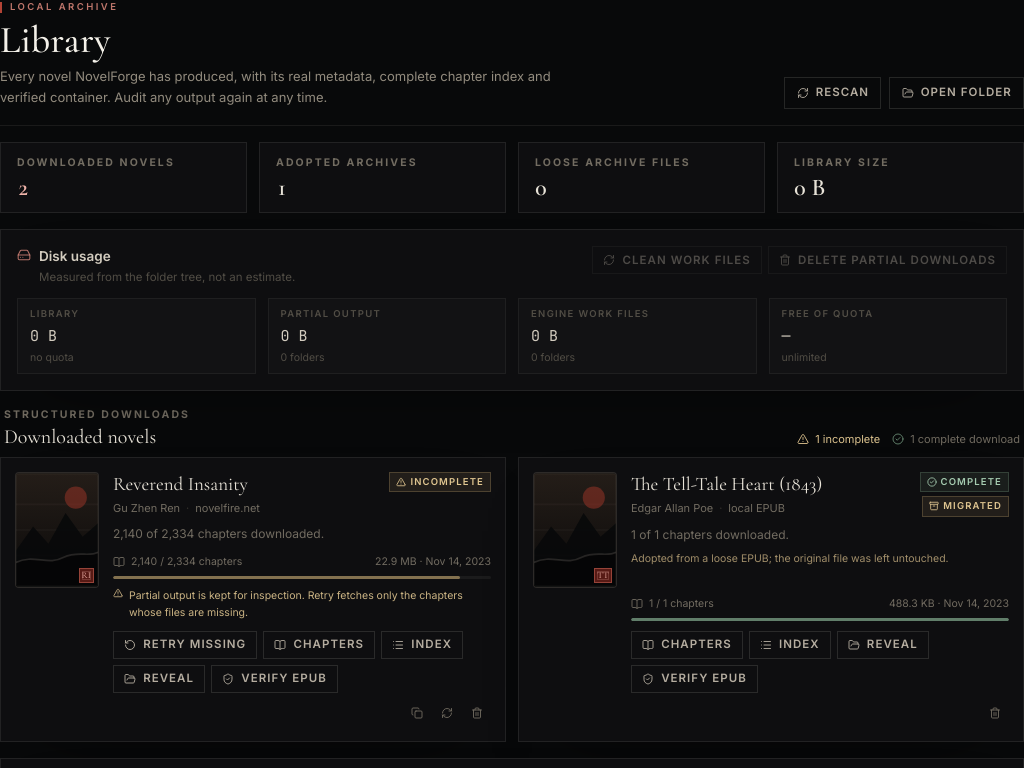
Test: LibraryPage novel state › opens the incomplete-index warning with the listed-chapter detail
What coordinates should you click on to do the following:
click the button "Index" below "2,140 of 2,334 chapters downloaded."
I would click on:
 (422, 645)
Its box is [381,631,463,659].
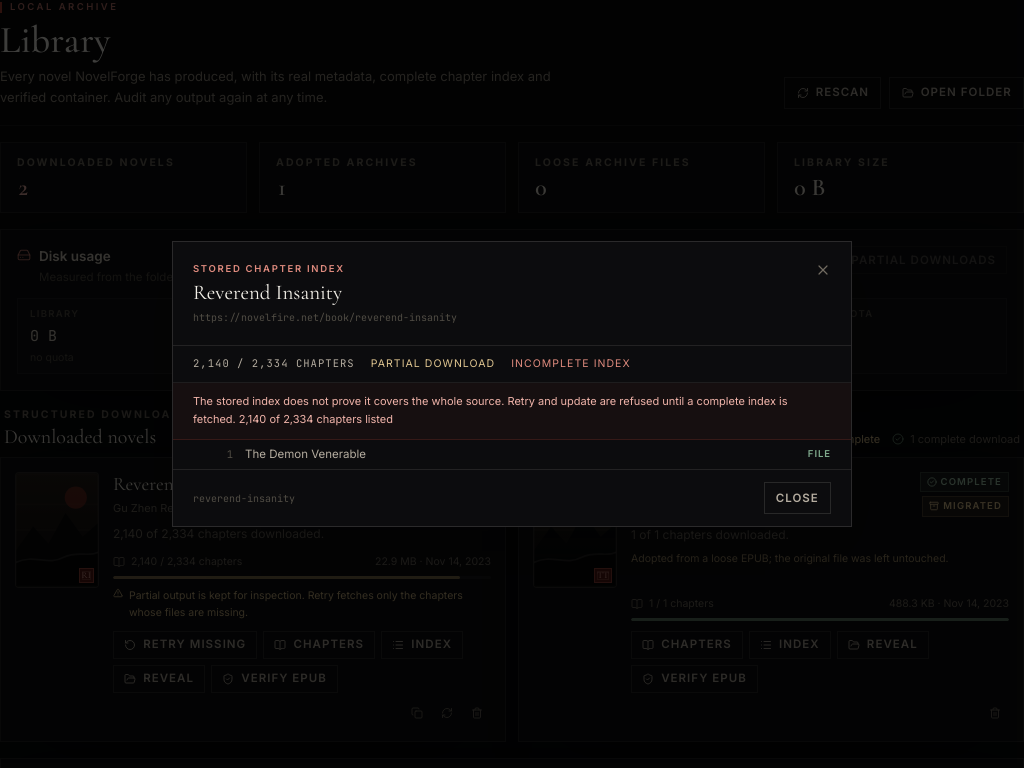
Now the text "incomplete index" is shown, box [511,356,631,372]
Now the text "2,140 of 2,334 chapters listed" is shown, box [236,412,393,426]
Now the text "does not prove it covers the whole source" is shown, box [193,394,788,426]
What coordinates should you click on to do the following:
click the button named "Close index"
I would click on:
 (823, 270)
Its box is [815,262,831,278].
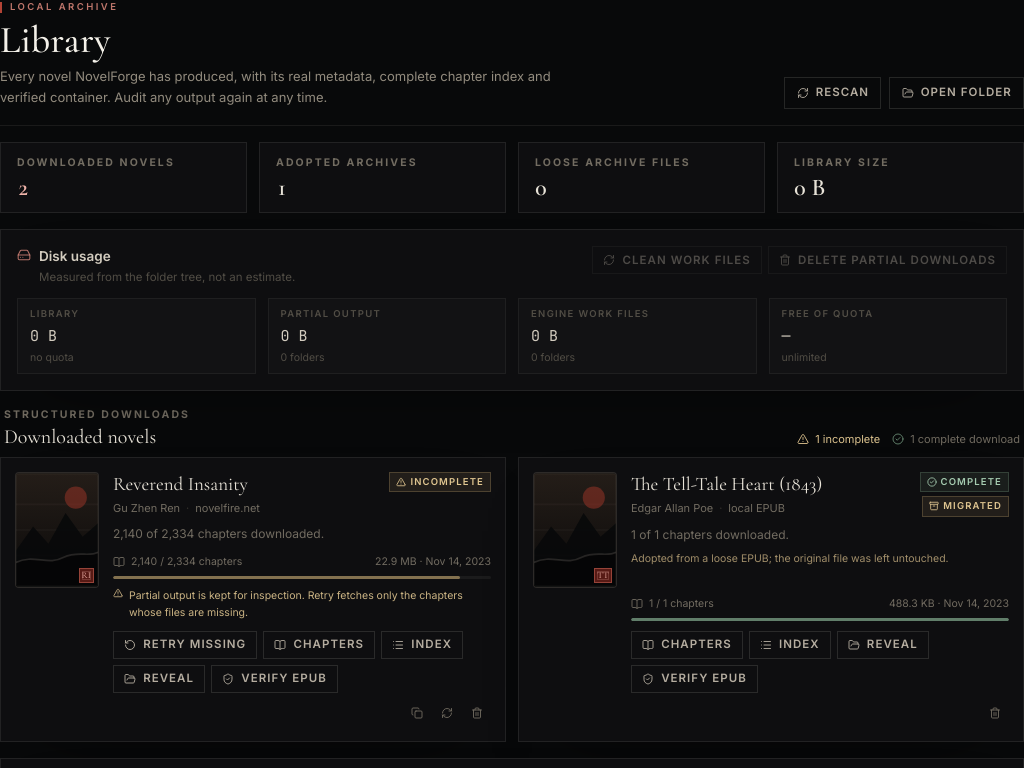
Now the dialog is gone
What coordinates should you click on to do the following:
click the button "Index" below "1 of 1 chapters downloaded."
I would click on:
 (790, 645)
Its box is [749,631,831,659].
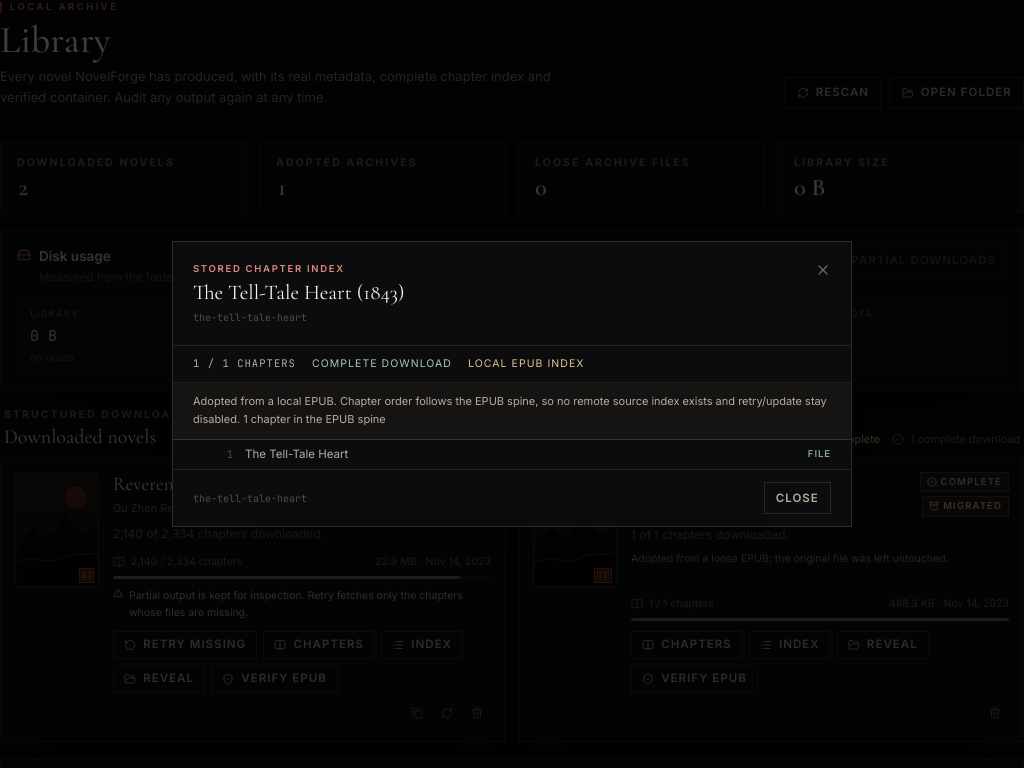
Expected: the text "does not prove it covers the whole source" is not shown
Now the text "local EPUB index" is shown, box [468,356,584,372]
Now the text "Chapter order follows the EPUB spine" is shown, box [193,394,827,426]
